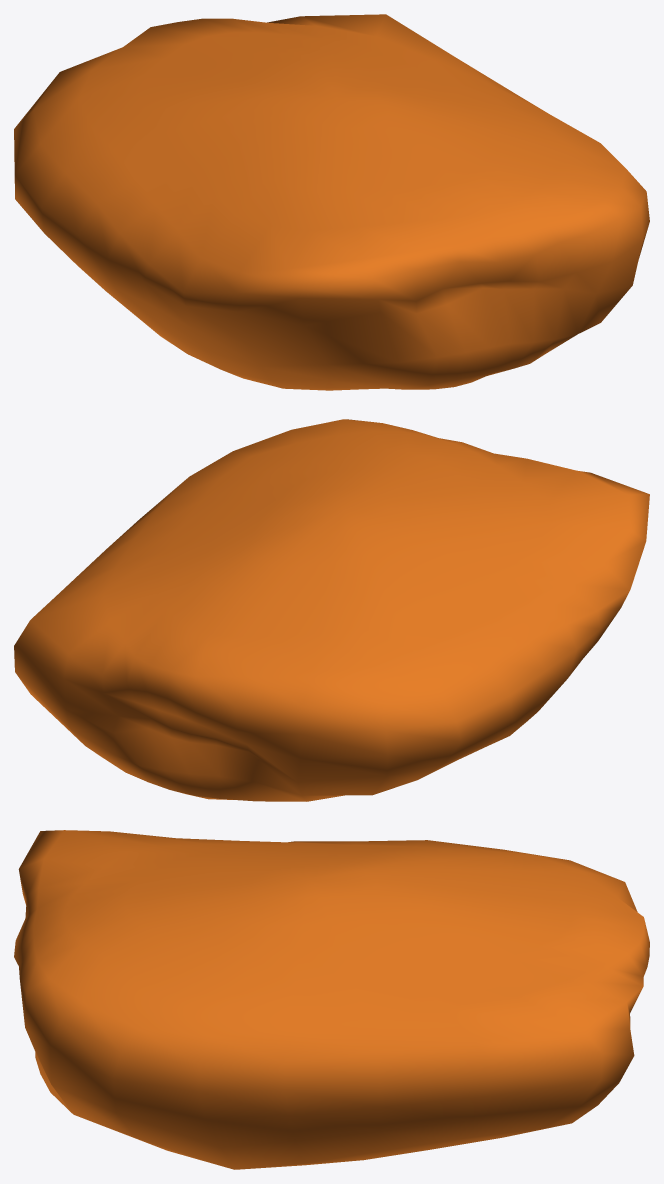
File: pain_choco_coin.fbx
The picture shows the model from 3 angles, top to bottom: view 1: azimuth 30°, elevation 25°; view 2: azimuth 150°, elevation 25°; view 3: azimuth 270°, elevation 25°; orthographic projection. The views are drawn at different scales.
Parts seen in each view (by area): view 1: Sphere; view 2: Sphere; view 3: Sphere.
Part boxes in pixels (x1=…): Sphere: x1=14, y1=14, x2=649, y2=390; Sphere: x1=14, y1=419, x2=649, y2=801; Sphere: x1=14, y1=830, x2=649, y2=1169.
Size of the model in its own units: 383 by 192 by 458.
